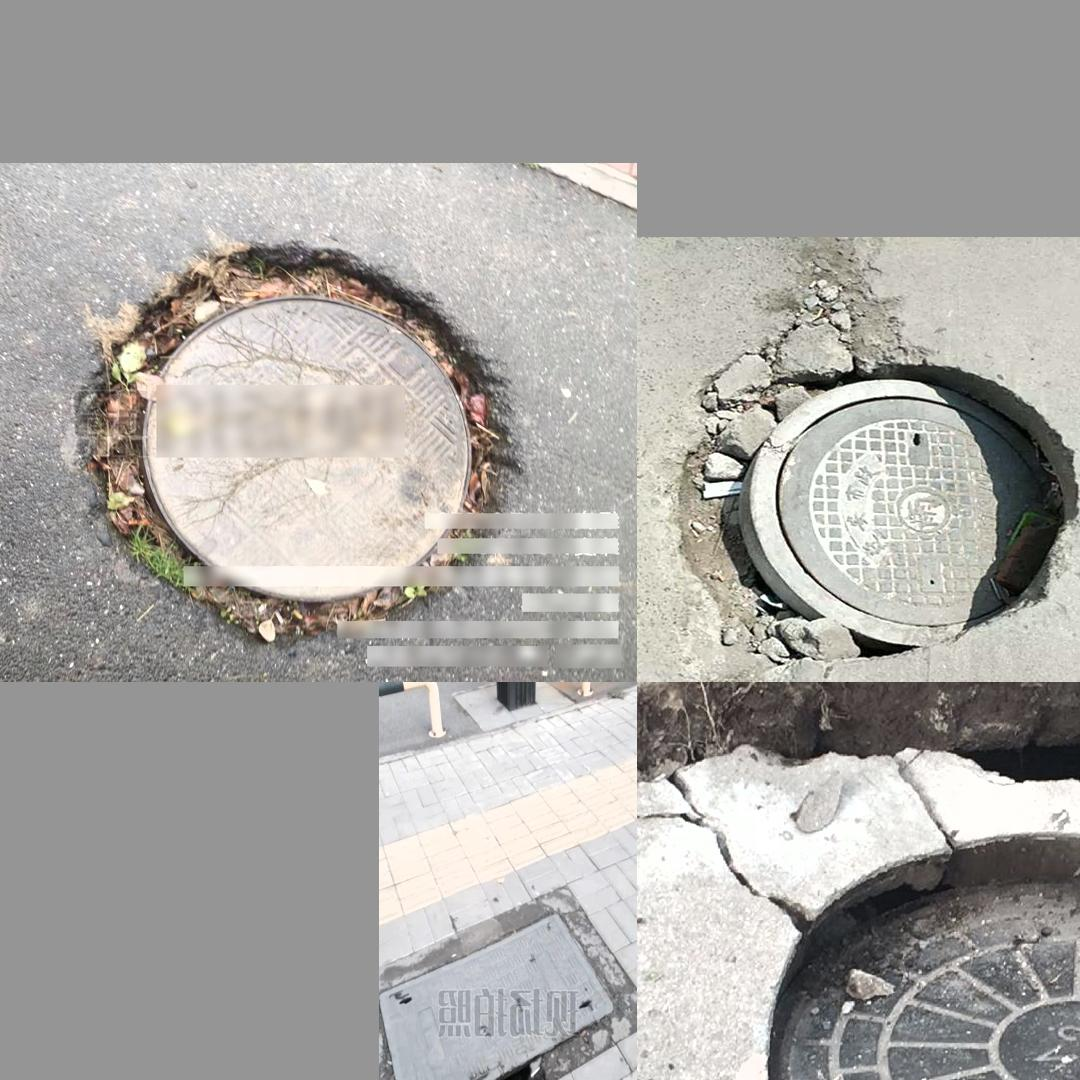circle: (73, 247, 524, 637), (646, 703, 1080, 1080), (685, 272, 1077, 654), (379, 885, 633, 1080)
